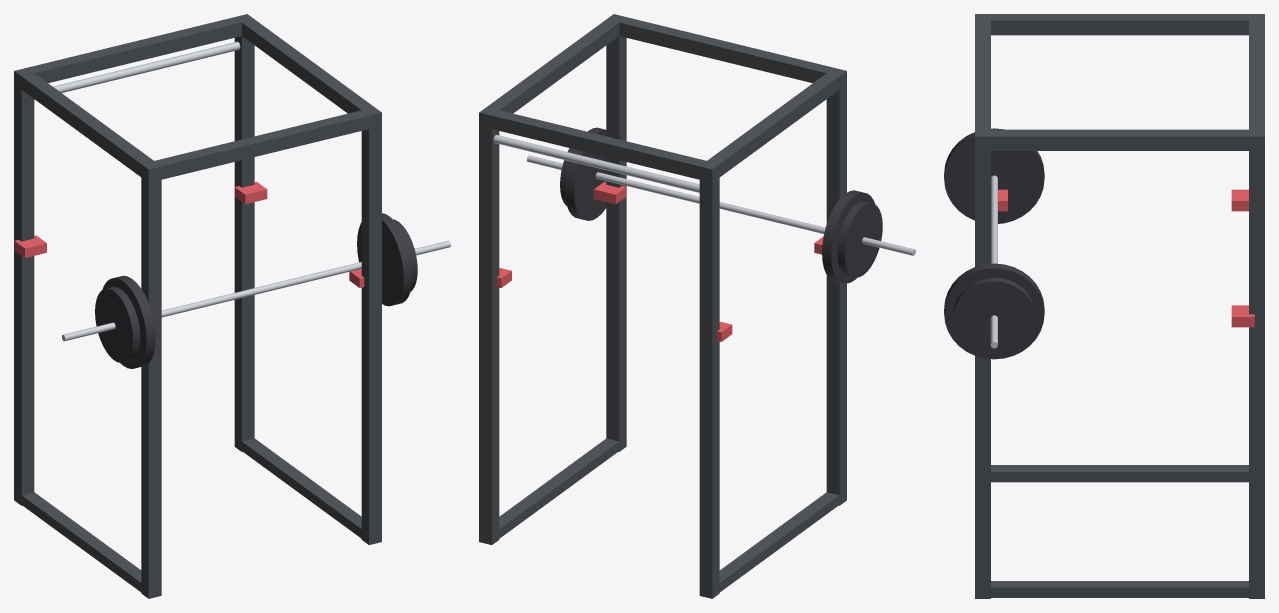
The model's file is power-rack.glb.
The picture shows the model from 3 angles, left to right: view 1: azimuth 30°, elevation 25°; view 2: azimuth 150°, elevation 25°; view 3: azimuth 270°, elevation 25°; orthographic projection. The views are drawn at different scales.
Size of the model in its own units: 2.1 by 2.24 by 1.41.
